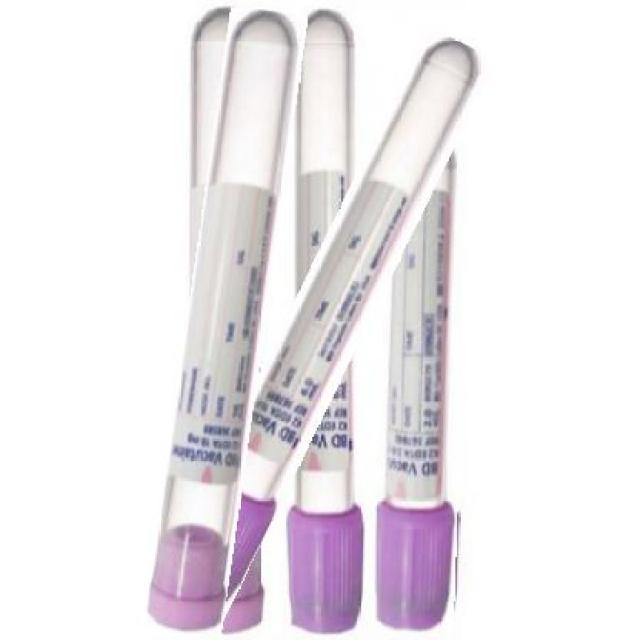Experimental-tube: (221, 20, 430, 631), (166, 7, 286, 636), (376, 127, 466, 635)
